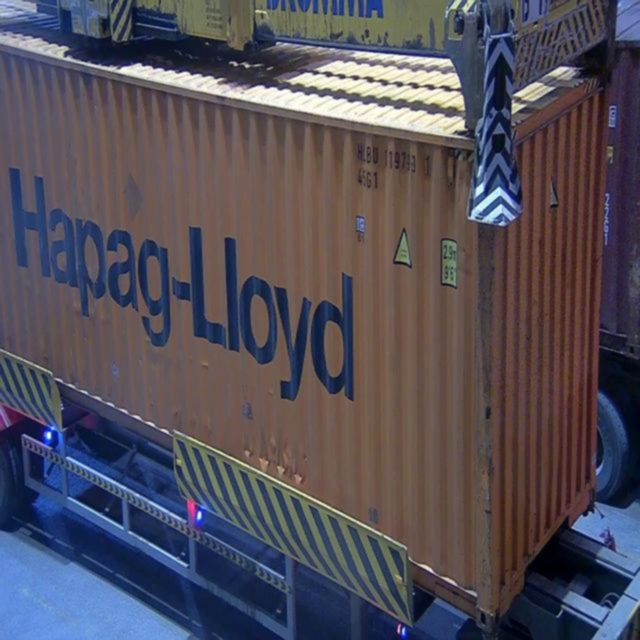Dent: (240, 423, 310, 495)
Rusty: (475, 229, 502, 628)
